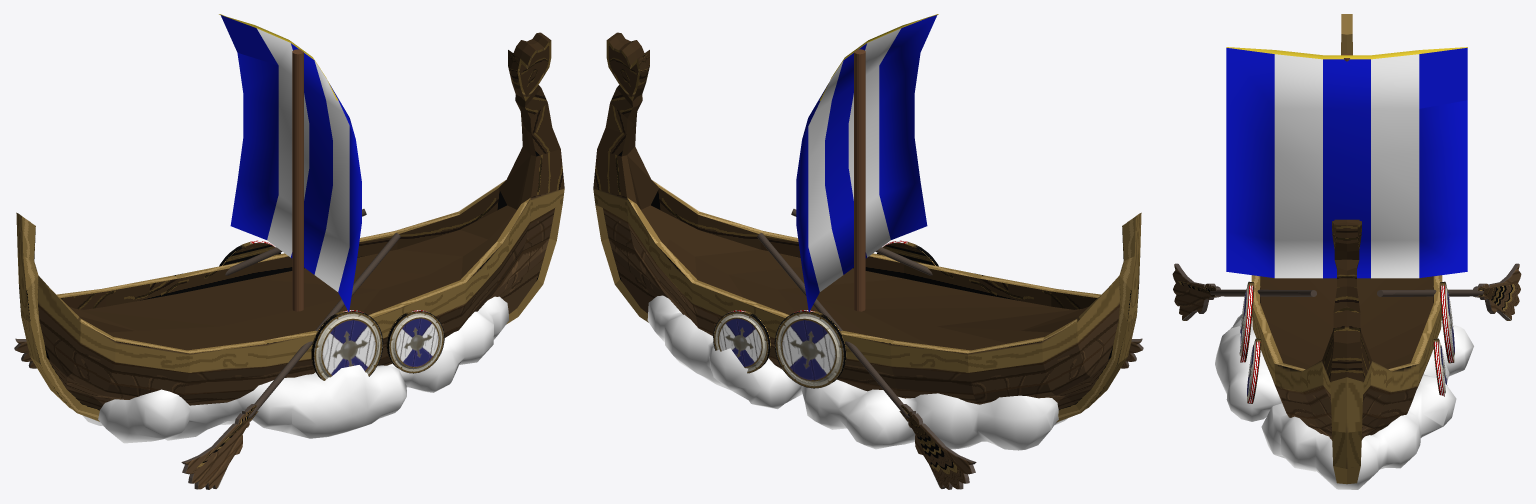
The model's file is OdinShip_V2_3.fbx.
3 views of the same model, side by side, from view 1: azimuth 30°, elevation 25°; view 2: azimuth 150°, elevation 25°; view 3: azimuth 270°, elevation 25° (orthographic).
Parts seen in each view (by area): view 1: Hull, Plane.002, Mball, Shield, Cylinder, Plane.004, Cylinder.002; view 2: Hull, Plane.002, Mball, Shield, Cylinder, Plane.004, Cylinder.002; view 3: Plane.002, Hull, Mball, Plane.004, Shield, Cylinder.002.
Boxes of the visible parts, x1=… form: Hull: x1=16, y1=32, x2=564, y2=421; Plane.002: x1=219, y1=14, x2=361, y2=311; Mball: x1=82, y1=296, x2=509, y2=443; Shield: x1=219, y1=240, x2=444, y2=380; Cylinder: x1=292, y1=49, x2=303, y2=311; Plane.004: x1=14, y1=338, x2=258, y2=489; Cylinder.002: x1=225, y1=209, x2=400, y2=418; Hull: x1=593, y1=32, x2=1141, y2=422; Plane.002: x1=796, y1=14, x2=938, y2=311; Mball: x1=647, y1=295, x2=1067, y2=450; Shield: x1=713, y1=240, x2=938, y2=388; Cylinder: x1=854, y1=49, x2=865, y2=311; Plane.004: x1=899, y1=338, x2=1143, y2=489; Cylinder.002: x1=757, y1=209, x2=932, y2=418; Plane.002: x1=1226, y1=47, x2=1467, y2=278; Hull: x1=1251, y1=14, x2=1442, y2=484; Mball: x1=1215, y1=314, x2=1473, y2=489; Plane.004: x1=1172, y1=263, x2=1521, y2=320; Shield: x1=1239, y1=281, x2=1454, y2=403; Cylinder.002: x1=1210, y1=289, x2=1483, y2=296.
Bounding box in the file's own units: 2628 × 1659 × 1446.
